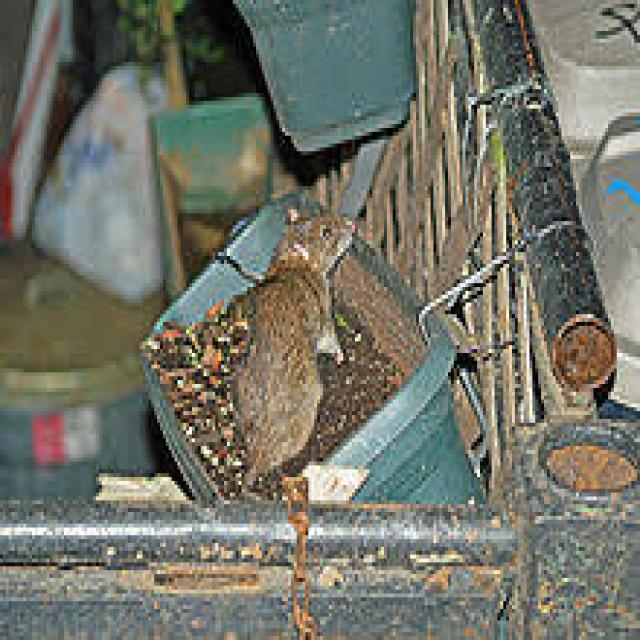Rat_Cat_Dog: (6, 6, 633, 640), (228, 181, 379, 496)
